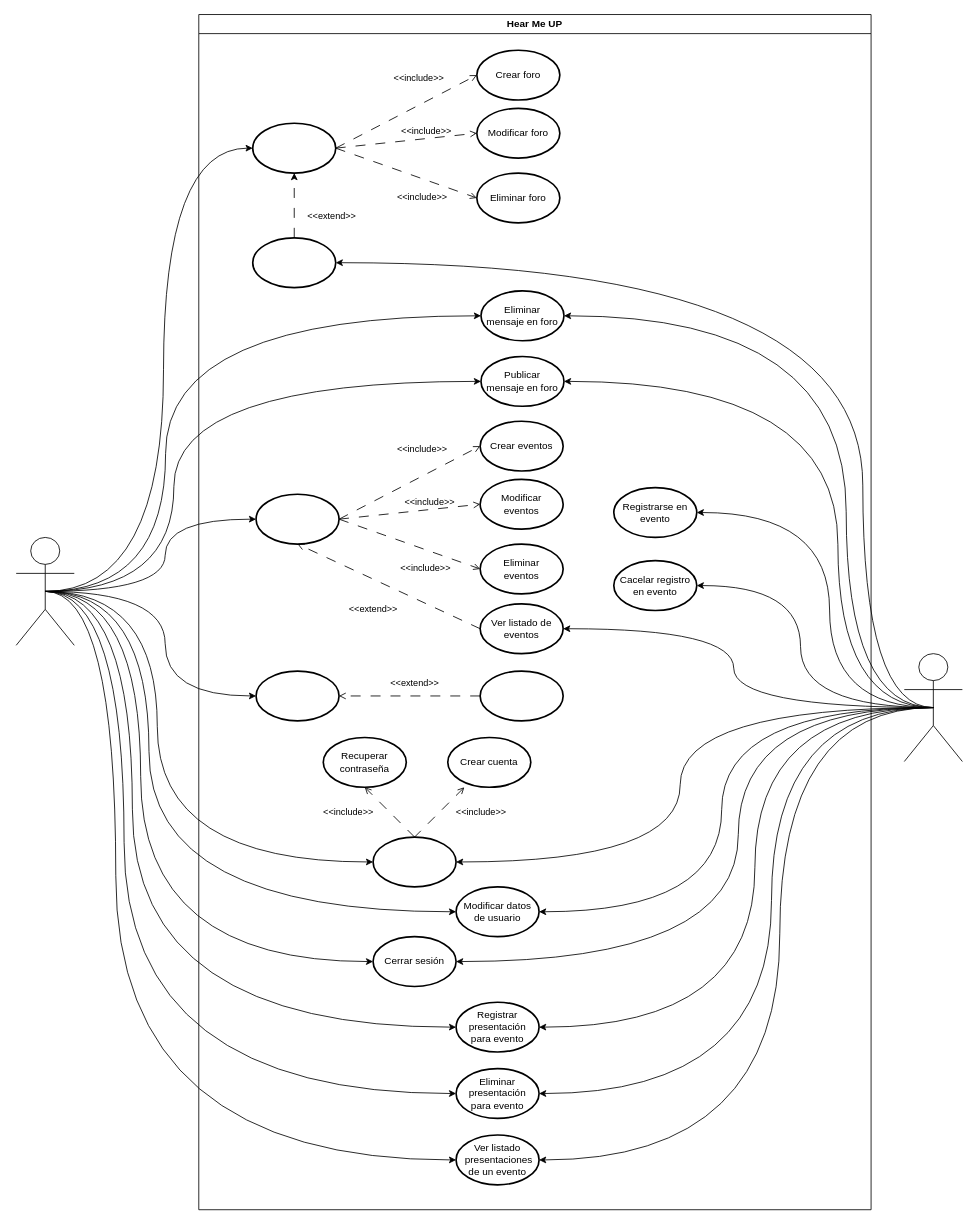
Image size: 977x1224. Some labels were removed from this diagram. The box of each missing label's shape, as (x1, y1, x2, y2) in pixels:
Administrador: (15, 537, 74, 645)
Administrar eventos: (255, 493, 339, 544)
Administrar foro: (251, 122, 336, 173)
Asistente: (903, 653, 962, 762)
Consultar foro: (251, 237, 336, 288)
Generar reporte de asistencia: (479, 670, 564, 721)
Iniciar sesión: (372, 836, 456, 887)
Ver detalles de eventos: (255, 670, 339, 721)
